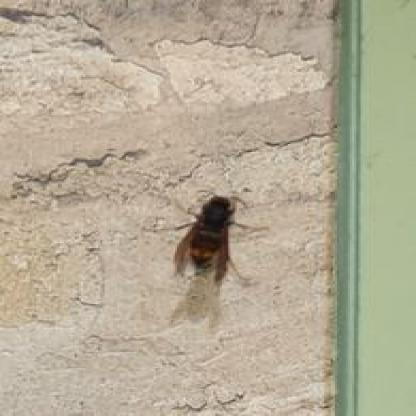Asian Hornet: (166, 190, 264, 284)
